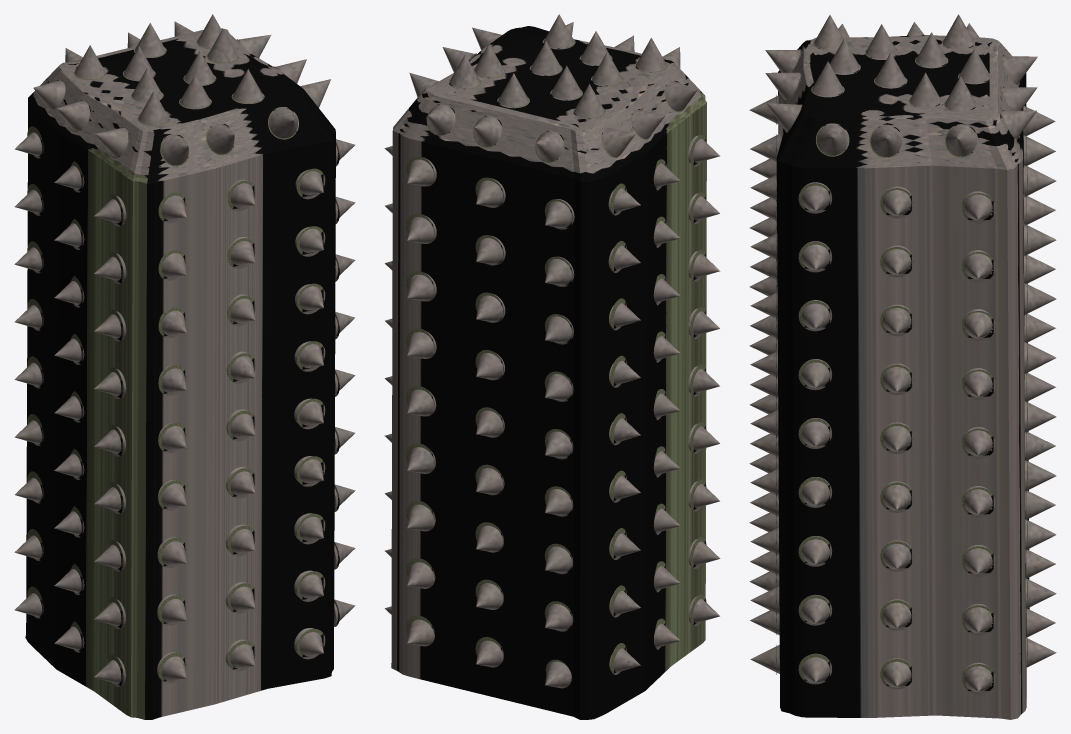
The model's file is Spike_Pillar.fbx.
The picture shows the model from 3 angles, left to right: view 1: azimuth 30°, elevation 25°; view 2: azimuth 150°, elevation 25°; view 3: azimuth 270°, elevation 25°; orthographic projection. The views are drawn at different scales.
Parts seen in each view (by area): view 1: AA_Block, Side_Spikes, Side_Holes; view 2: AA_Block, Side_Spikes, Side_Holes; view 3: AA_Block, Side_Spikes, Side_Holes.
Boxes of the visible parts, x1=… form: AA_Block: x1=25, y1=28, x2=335, y2=719; Side_Spikes: x1=14, y1=14, x2=355, y2=684; Side_Holes: x1=27, y1=38, x2=339, y2=686; AA_Block: x1=391, y1=26, x2=706, y2=719; Side_Spikes: x1=384, y1=14, x2=720, y2=688; Side_Holes: x1=406, y1=38, x2=706, y2=674; AA_Block: x1=776, y1=35, x2=1029, y2=719; Side_Spikes: x1=749, y1=14, x2=1056, y2=691; Side_Holes: x1=776, y1=39, x2=1027, y2=694.
Bounding box in the file's own units: 249 × 557 × 250.
